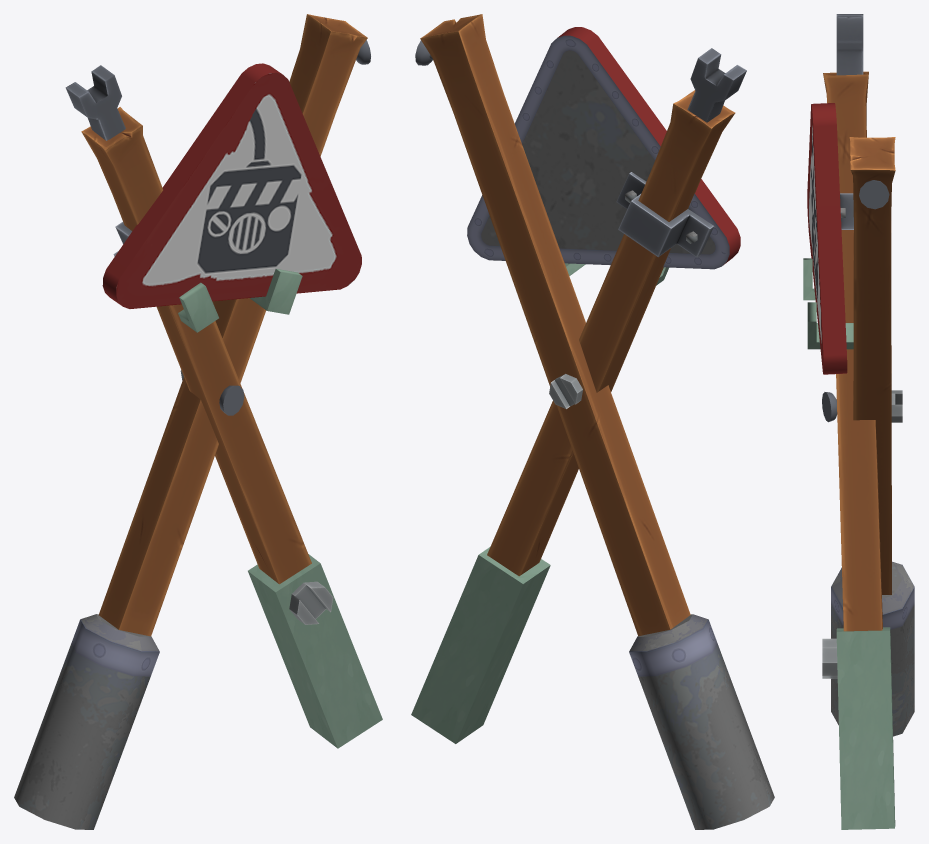
File: env_hideout_hideoutsign02.fbx
3 views of the same model, side by side, from view 1: azimuth 30°, elevation 25°; view 2: azimuth 150°, elevation 25°; view 3: azimuth 270°, elevation 25° (orthographic). The views are drawn at different scales.
Visible parts, largest first — view 1: env_hideout_hideoutsign02; view 2: env_hideout_hideoutsign02; view 3: env_hideout_hideoutsign02.
Boxes of the visible parts, <box> form: env_hideout_hideoutsign02: <box>14,14,382,829</box>; env_hideout_hideoutsign02: <box>411,14,774,829</box>; env_hideout_hideoutsign02: <box>803,14,914,829</box>.
Bounding box in the file's own units: 10.1 × 21.05 × 2.92.
1 material, 1 textured.
